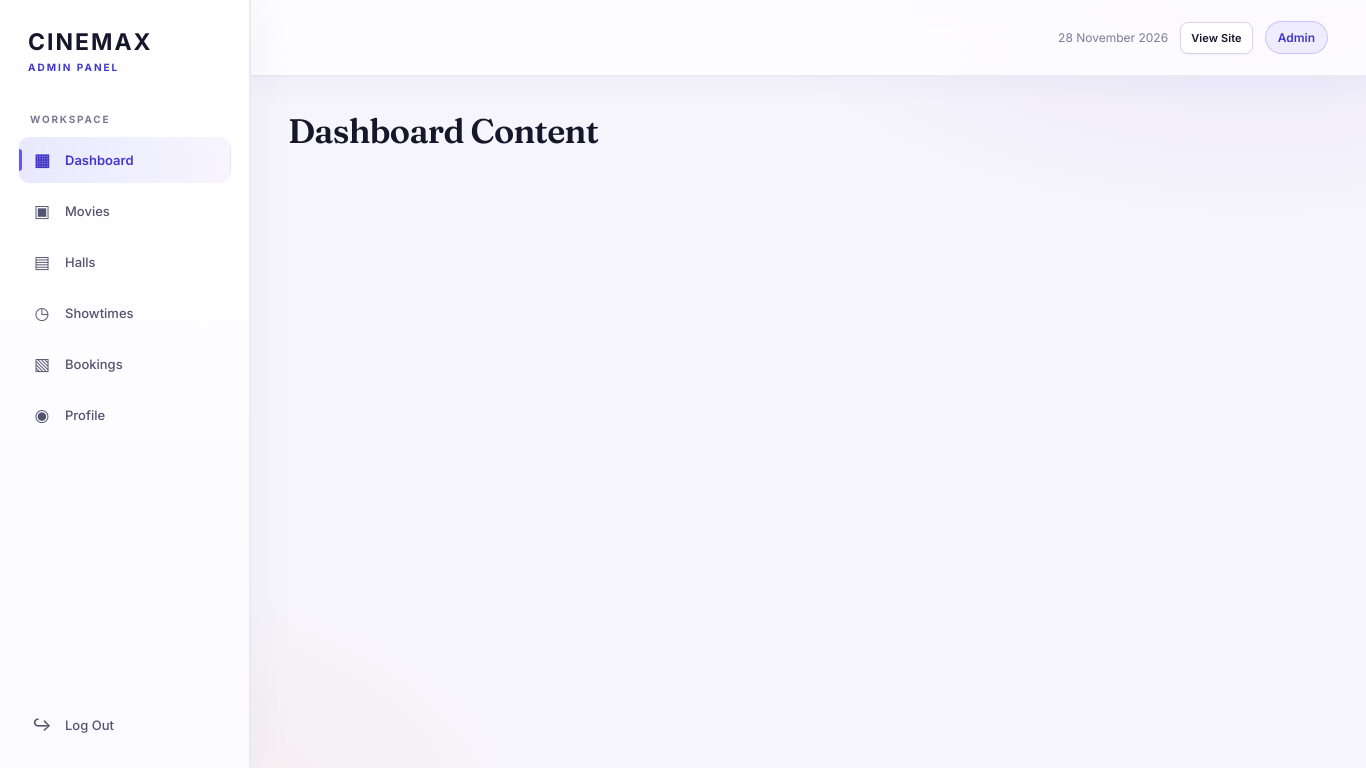
Test: AdminLayout Component › should navigate to the Movies admin page
Click the link "▣ Movies": (72, 211) [34,201,110,221]
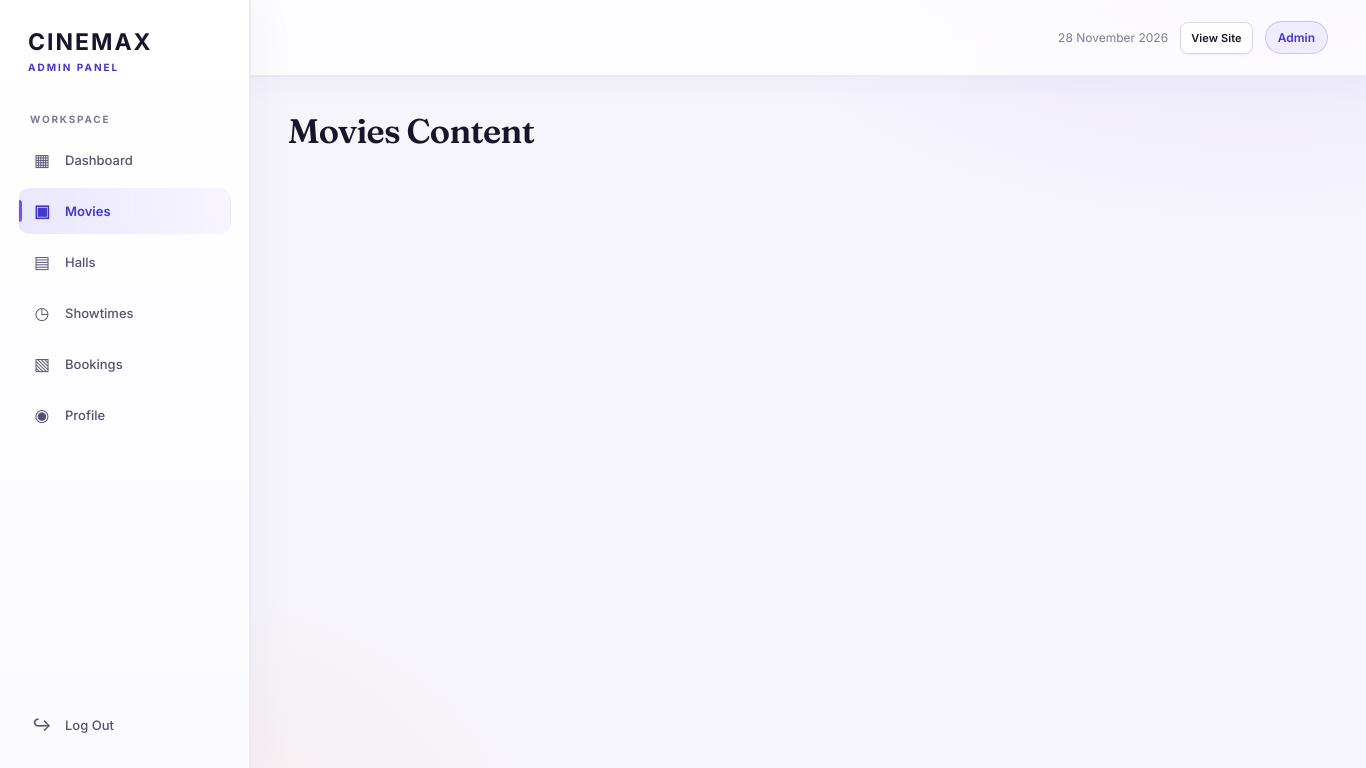
Check: the heading "Movies Content" is shown, box [288,110,534,152]
